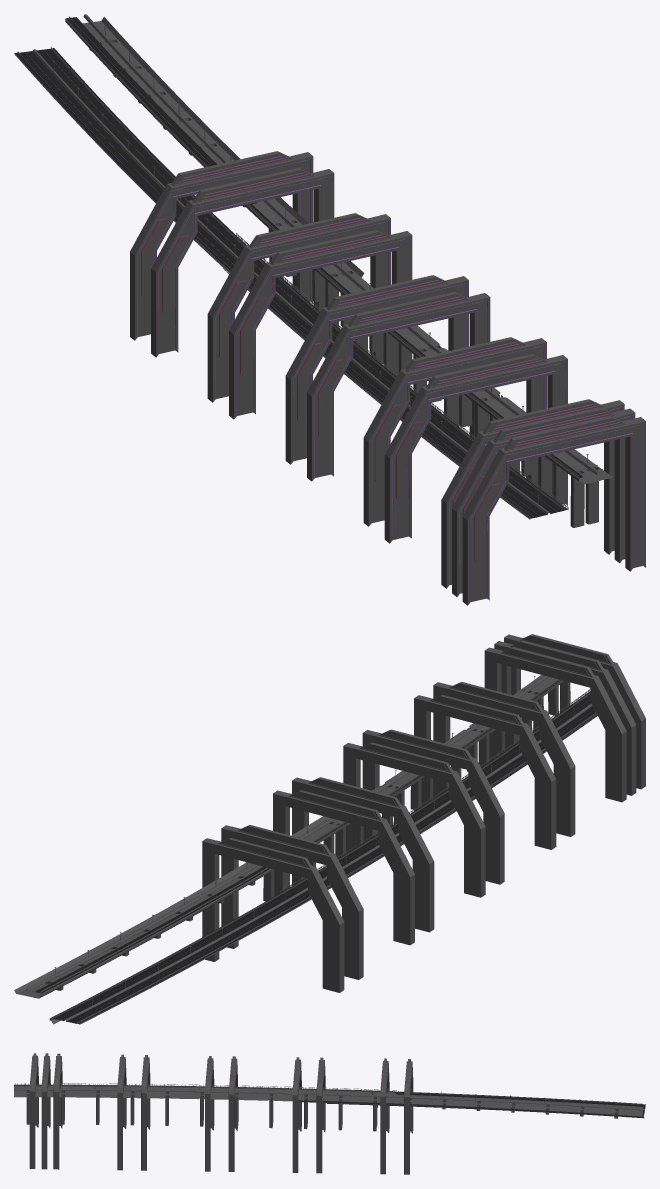
The model's file is Road.fbx.
3 views of the same model, one above another, from view 1: azimuth 30°, elevation 25°; view 2: azimuth 150°, elevation 25°; view 3: azimuth 270°, elevation 25° (orthographic). The views are drawn at different scales.
Parts seen in each view (by area): view 1: Cube.002, Cube; view 2: Cube.002, Cube; view 3: Cube, Cube.002.
Part boxes in pixels (x1,y1,x2,y2): Cube.002: (130, 151, 645, 605); Cube: (14, 14, 612, 527); Cube.002: (202, 634, 645, 992); Cube: (14, 675, 597, 1024); Cube: (14, 1083, 645, 1132); Cube.002: (29, 1053, 413, 1174).
Bounding box in the file's own units: 44.71 × 31.46 × 218.
